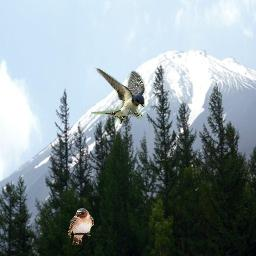Swallow: (91, 67, 145, 124), (68, 208, 94, 245)
